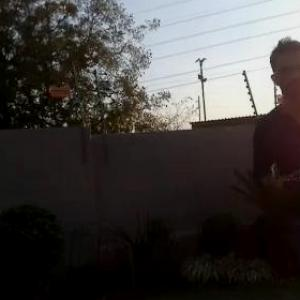follow: (242, 39, 299, 299)
